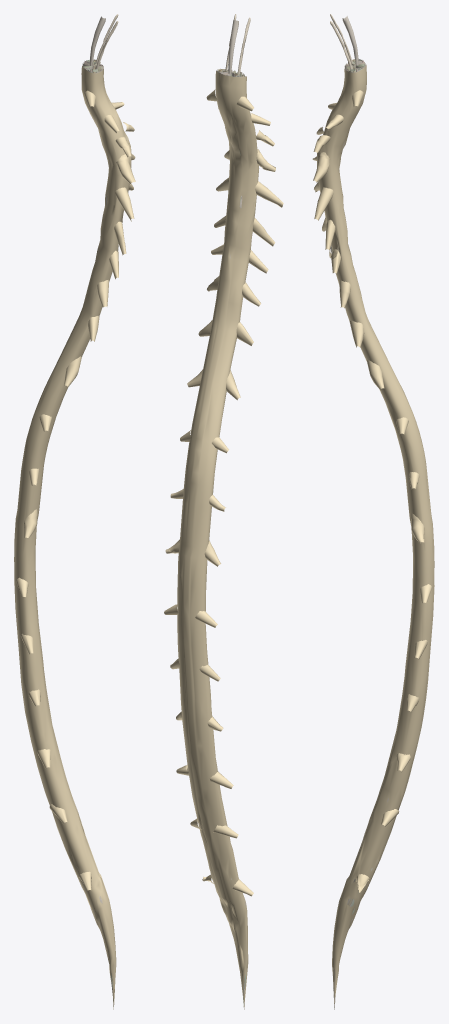
The model's file is body-spinal-cord.lod2.glb.
3 views of the same model, side by side, from view 1: azimuth 90°, elevation 25°; view 2: azimuth 150°, elevation 25°; view 3: azimuth 270°, elevation 25° (orthographic).
Visible parts, largest first — view 1: spinal-dura; view 2: spinal-dura, central-canal-segment; view 3: spinal-dura.
Boxes of the visible parts, x1,y1,x2,y2 form: spinal-dura: [14, 66, 135, 1009]; spinal-dura: [164, 71, 283, 1009]; central-canal-segment: [228, 20, 238, 75]; spinal-dura: [312, 64, 434, 1003].
Size of the model in its own units: 0.0346 by 0.4901 by 0.0545.
